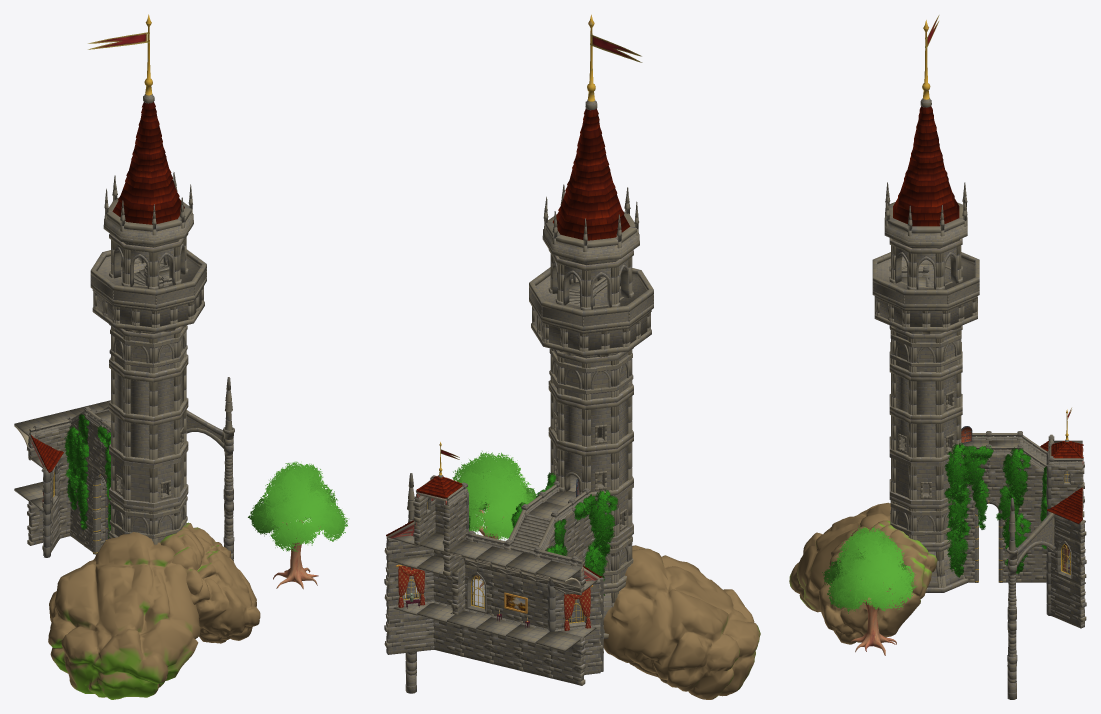
Rendered from cell_x-1_z2_render.gltf.
The picture shows the model from 3 angles, left to right: view 1: azimuth 30°, elevation 25°; view 2: azimuth 150°, elevation 25°; view 3: azimuth 270°, elevation 25°; orthographic projection. The views are drawn at different scales.
Visible parts, largest first — view 1: SM_ENV_cliff_castle_01_LOD0.007, SM_ENV_cliff_castle_01_LOD0.022, SM_ENV_tree_castle_01_LOD0.003, SM_MOD_tower_segment_top_castle_LOD0.004, SM_MOD_tower_roof_castle_LOD0.002, SM_MOD_tower_segment_window_castle_LOD0.015, SM_MOD_tower_segment_top_deco_castle_LOD0.001, SM_MOD_tower_segment_wall_castle_LOD0.004, SM_MOD_tower_segment_wall_castle_LOD0.007, SM_MOD_deco_flying_buttress_castle_LOD0.002, SM_MOD_tower_part_wall_castle_LOD0.015, SM_MOD_tower_part_wall_castle_LOD0.010 (+16 smaller); view 2: SM_ENV_cliff_castle_01_LOD0.007, SM_MOD_tower_segment_top_castle_LOD0.004, SM_MOD_tower_roof_castle_LOD0.002, SM_ENV_tree_castle_01_LOD0.003, SM_MOD_tower_segment_top_deco_castle_LOD0.001, SM_MOD_tower_segment_wall_castle_LOD0.004, SM_MOD_wall_big_diagonal_castle_LOD0.116, SM_MOD_tower_part_window_castle_LOD0.002, SM_ENV_bush_castle_08_LOD0.054, SM_MOD_tower_segment_wall_deco_castle_LOD0.003, SM_MOD_tower_part_window_castle_LOD0.001, SM_MOD_tower_part_wall_castle_LOD0.019 (+28 smaller); view 3: SM_ENV_tree_castle_01_LOD0.003, SM_MOD_tower_segment_top_castle_LOD0.004, SM_ENV_cliff_castle_01_LOD0.022, SM_MOD_tower_roof_castle_LOD0.002, SM_ENV_cliff_castle_01_LOD0.007, SM_MOD_tower_segment_window_castle_LOD0.015, SM_MOD_tower_segment_wall_castle_LOD0.004, SM_MOD_tower_segment_top_deco_castle_LOD0.001, SM_MOD_deco_flying_buttress_castle_LOD0.002, SM_MOD_tower_segment_wall_castle_LOD0.007, SM_MOD_wall_big_diagonal_castle_LOD0.116, SM_MOD_wall_big_diagonal_window_castle_LOD0.023 (+30 smaller).
Boxes of the visible parts, left/top/right/bottom form: SM_ENV_cliff_castle_01_LOD0.007: left=48, top=532, right=200, bottom=699; SM_ENV_cliff_castle_01_LOD0.022: left=160, top=522, right=260, bottom=643; SM_ENV_tree_castle_01_LOD0.003: left=248, top=461, right=347, bottom=589; SM_MOD_tower_segment_top_castle_LOD0.004: left=90, top=249, right=206, bottom=333; SM_MOD_tower_roof_castle_LOD0.002: left=112, top=102, right=184, bottom=224; SM_MOD_tower_segment_window_castle_LOD0.015: left=109, top=446, right=188, bottom=507; SM_MOD_tower_segment_top_deco_castle_LOD0.001: left=103, top=172, right=193, bottom=247; SM_MOD_tower_segment_wall_castle_LOD0.004: left=109, top=324, right=188, bottom=378; SM_MOD_tower_segment_wall_castle_LOD0.007: left=109, top=484, right=188, bottom=544; SM_MOD_deco_flying_buttress_castle_LOD0.002: left=186, top=377, right=234, bottom=495; SM_MOD_tower_part_wall_castle_LOD0.015: left=124, top=375, right=153, bottom=421; SM_MOD_tower_part_wall_castle_LOD0.010: left=124, top=418, right=153, bottom=464; SM_ENV_cliff_castle_01_LOD0.007: left=603, top=545, right=760, bottom=699; SM_MOD_tower_segment_top_castle_LOD0.004: left=529, top=267, right=653, bottom=358; SM_MOD_tower_roof_castle_LOD0.002: left=552, top=109, right=630, bottom=240; SM_ENV_tree_castle_01_LOD0.003: left=452, top=451, right=536, bottom=589; SM_MOD_tower_segment_top_deco_castle_LOD0.001: left=542, top=184, right=639, bottom=265; SM_MOD_tower_segment_wall_castle_LOD0.004: left=548, top=348, right=633, bottom=405; SM_MOD_wall_big_diagonal_castle_LOD0.116: left=384, top=607, right=434, bottom=654; SM_MOD_tower_part_window_castle_LOD0.002: left=585, top=402, right=617, bottom=451; SM_ENV_bush_castle_08_LOD0.054: left=588, top=489, right=617, bottom=557; SM_MOD_tower_segment_wall_deco_castle_LOD0.003: left=549, top=348, right=633, bottom=394; SM_MOD_tower_part_window_castle_LOD0.001: left=585, top=448, right=617, bottom=497; SM_MOD_tower_part_wall_castle_LOD0.019: left=557, top=399, right=585, bottom=451; SM_ENV_tree_castle_01_LOD0.003: left=822, top=525, right=917, bottom=655; SM_MOD_tower_segment_top_castle_LOD0.004: left=872, top=252, right=979, bottom=334; SM_ENV_cliff_castle_01_LOD0.022: left=819, top=520, right=937, bottom=644; SM_MOD_tower_roof_castle_LOD0.002: left=893, top=106, right=959, bottom=226; SM_ENV_cliff_castle_01_LOD0.007: left=789, top=502, right=890, bottom=612; SM_MOD_tower_segment_window_castle_LOD0.015: left=889, top=453, right=954, bottom=504; SM_MOD_tower_segment_wall_castle_LOD0.004: left=889, top=325, right=962, bottom=377; SM_MOD_tower_segment_top_deco_castle_LOD0.001: left=884, top=182, right=967, bottom=248; SM_MOD_deco_flying_buttress_castle_LOD0.002: left=1006, top=497, right=1054, bottom=614; SM_MOD_tower_segment_wall_castle_LOD0.007: left=889, top=484, right=955, bottom=547; SM_MOD_wall_big_diagonal_castle_LOD0.116: left=1050, top=573, right=1086, bottom=628; SM_MOD_wall_big_diagonal_window_castle_LOD0.023: left=1050, top=532, right=1086, bottom=585.
Size of the model in its own units: 41.25 by 88.7 by 37.98.
19 materials, 18 textured.
